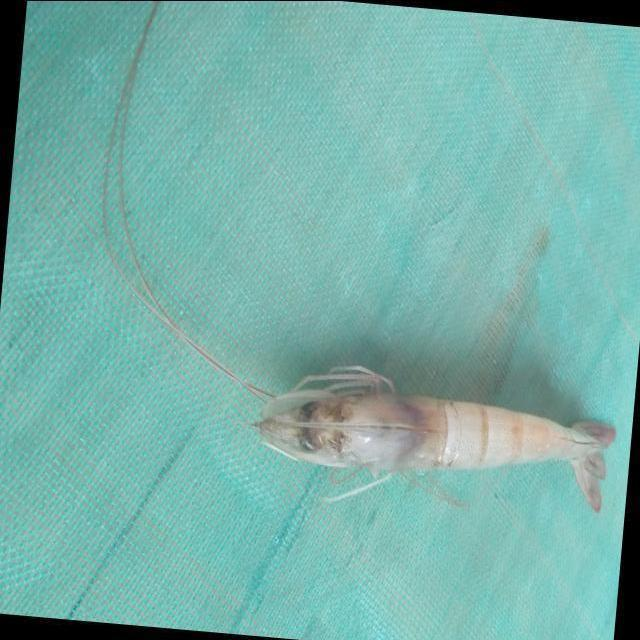shrimp: (256, 368, 616, 512)
